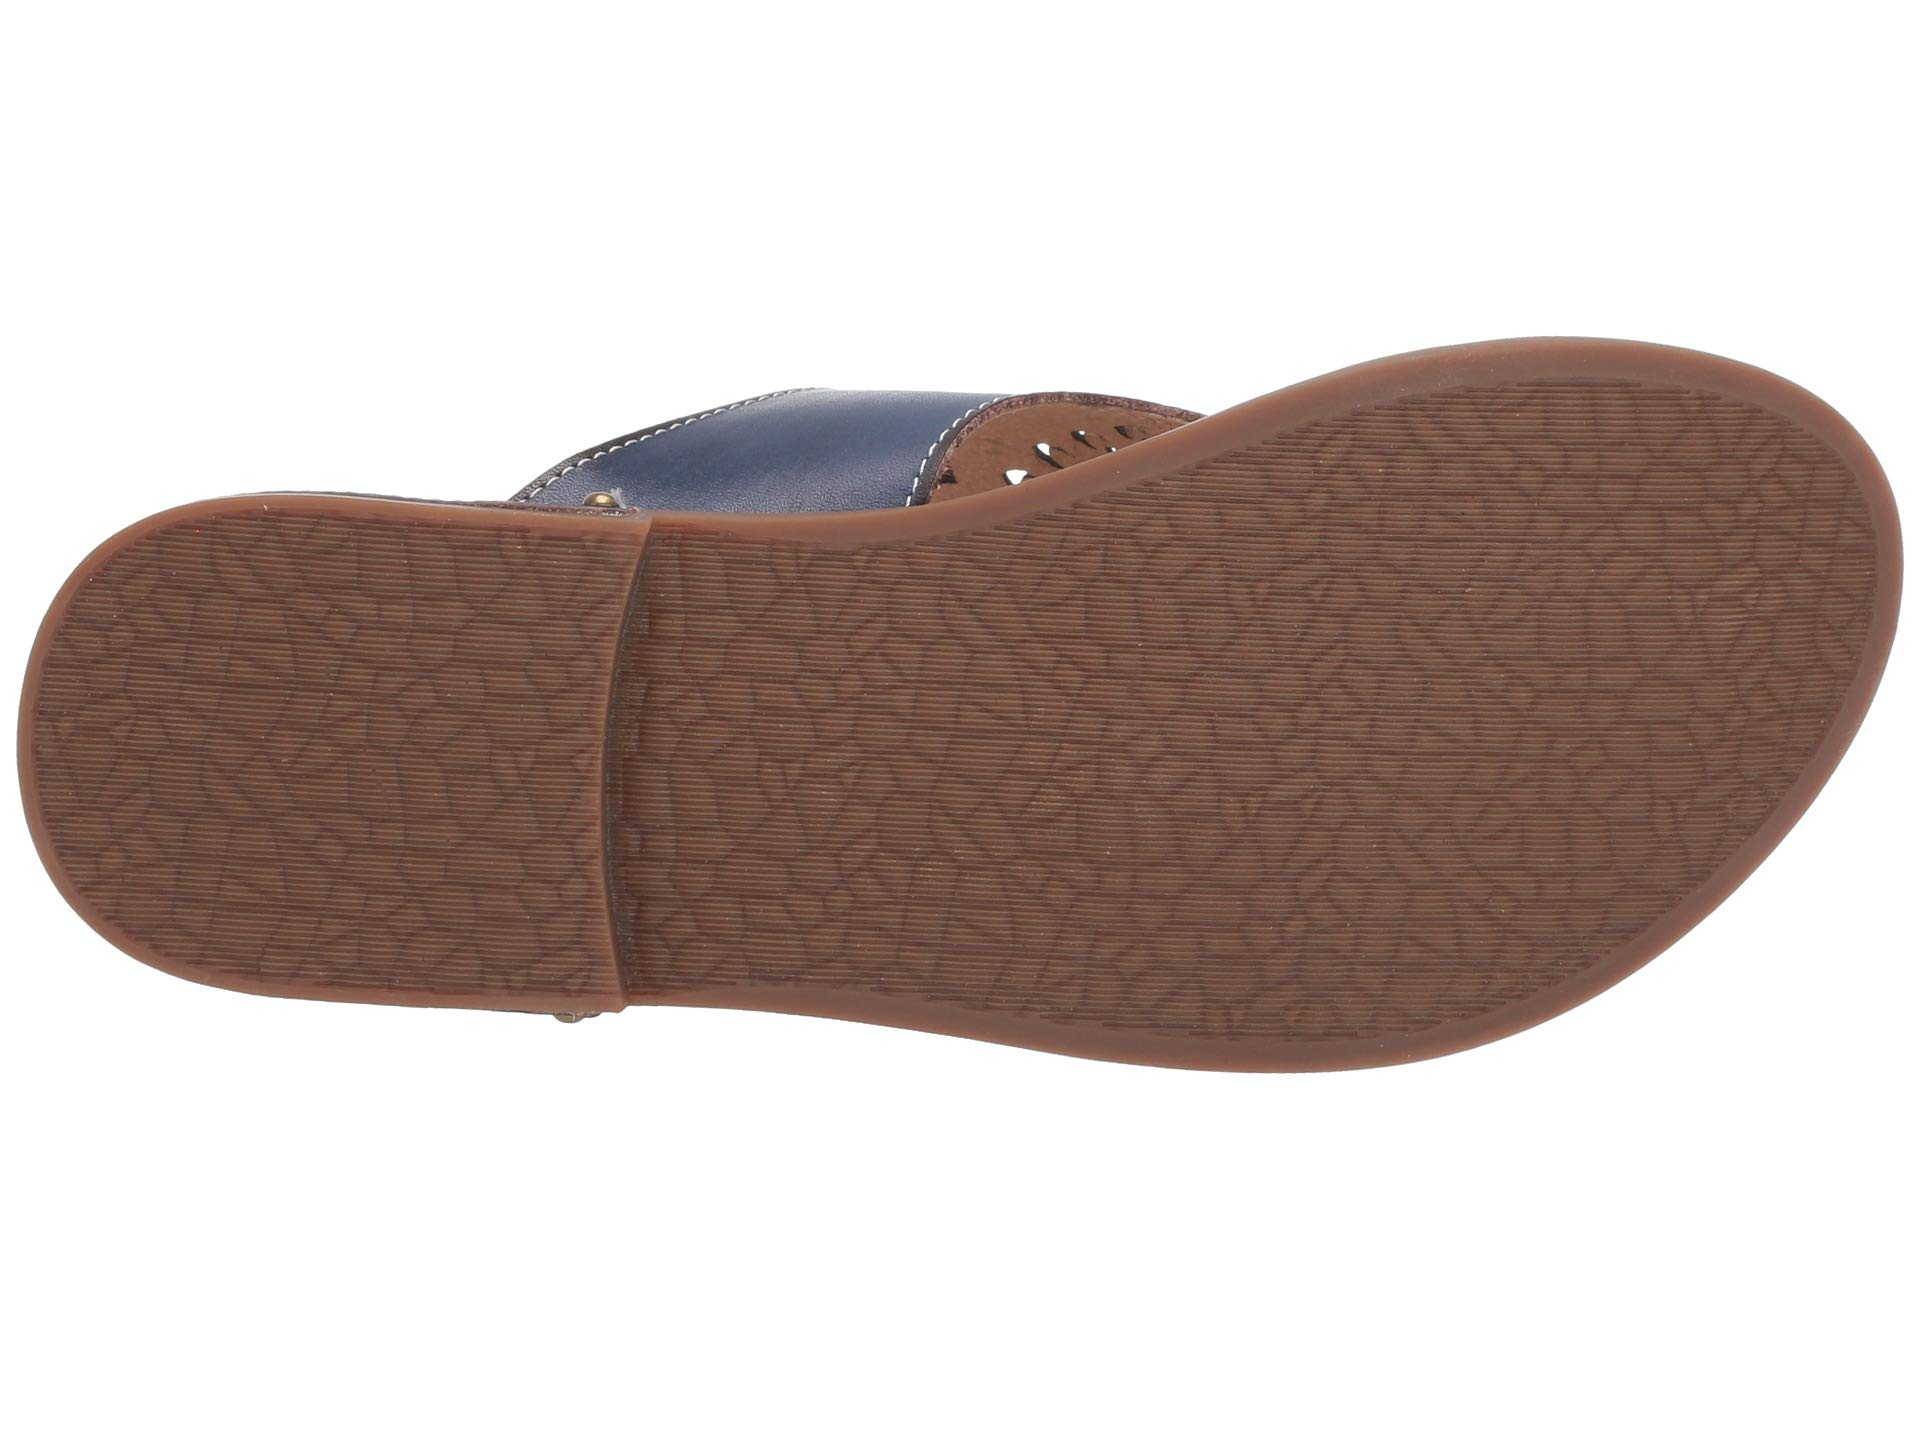polygon: (890, 578, 1265, 967)
quad: (890, 578, 1265, 967)
triangle: (890, 578, 1265, 967)
